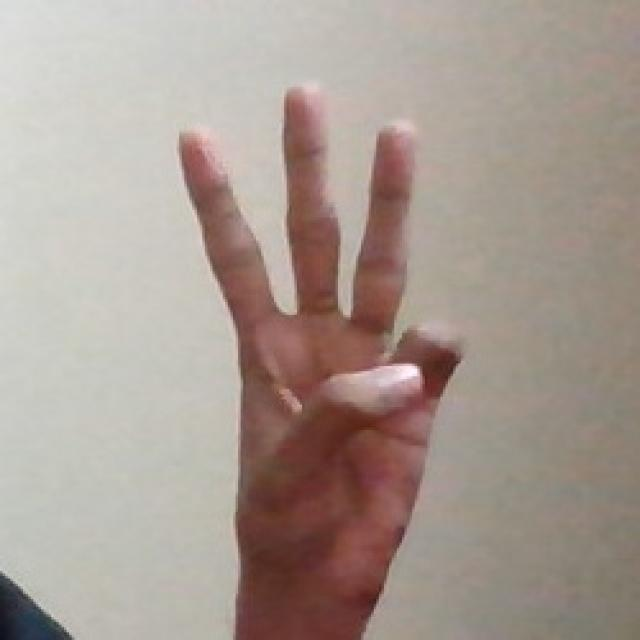Numeric-6: (160, 76, 466, 616)
